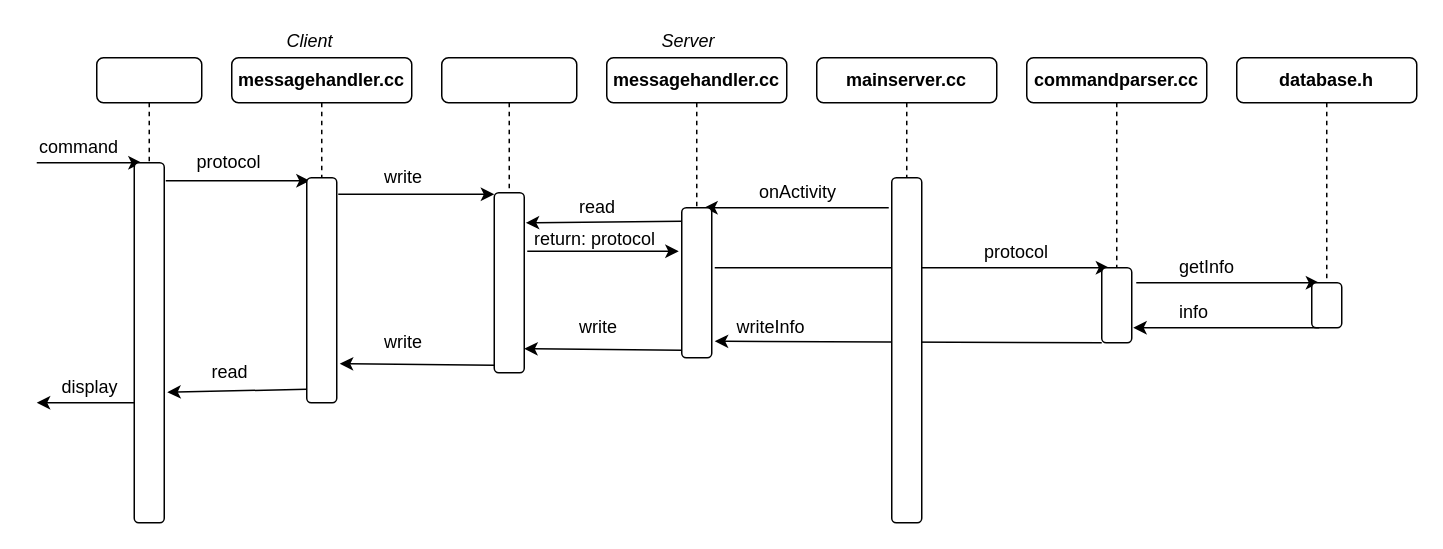
This 1443x549 diagram has some shape labels left out. Each missing label, with the centre of its shape:
"client.cc" belongs at (x=148, y=79).
"connection.h" belongs at (x=508, y=79).
